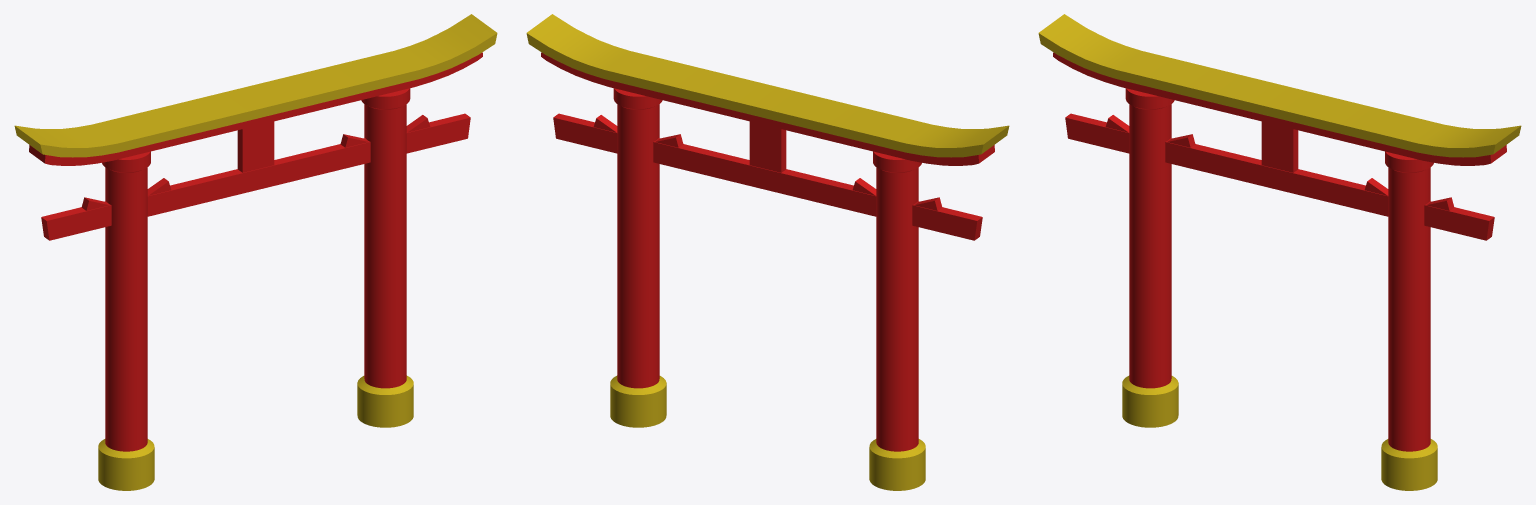
The model's file is Torii.obj.
The picture shows the model from 3 angles, left to right: view 1: azimuth 30°, elevation 25°; view 2: azimuth 150°, elevation 25°; view 3: azimuth 330°, elevation 25°; orthographic projection.
Visible parts, largest first — view 1: Techo_Mesh.003, Columna_1_Mesh, Columna_2_Mesh.001, Forma_Mesh.002; view 2: Techo_Mesh.003, Columna_1_Mesh, Columna_2_Mesh.001, Forma_Mesh.002; view 3: Techo_Mesh.003, Columna_2_Mesh.001, Columna_1_Mesh, Forma_Mesh.002.
Boxes of the visible parts, x1=… form: Techo_Mesh.003: x1=14, y1=14, x2=497, y2=165; Columna_1_Mesh: x1=357, y1=88, x2=413, y2=427; Columna_2_Mesh.001: x1=98, y1=151, x2=154, y2=490; Forma_Mesh.002: x1=41, y1=113, x2=470, y2=240; Techo_Mesh.003: x1=526, y1=14, x2=1009, y2=165; Columna_1_Mesh: x1=610, y1=88, x2=666, y2=427; Columna_2_Mesh.001: x1=869, y1=151, x2=925, y2=490; Forma_Mesh.002: x1=553, y1=113, x2=982, y2=240; Techo_Mesh.003: x1=1038, y1=14, x2=1521, y2=165; Columna_2_Mesh.001: x1=1122, y1=88, x2=1178, y2=427; Columna_1_Mesh: x1=1381, y1=151, x2=1437, y2=490; Forma_Mesh.002: x1=1065, y1=113, x2=1494, y2=240.
Bounding box in the file's own units: 7.49 × 5.77 × 0.8.
